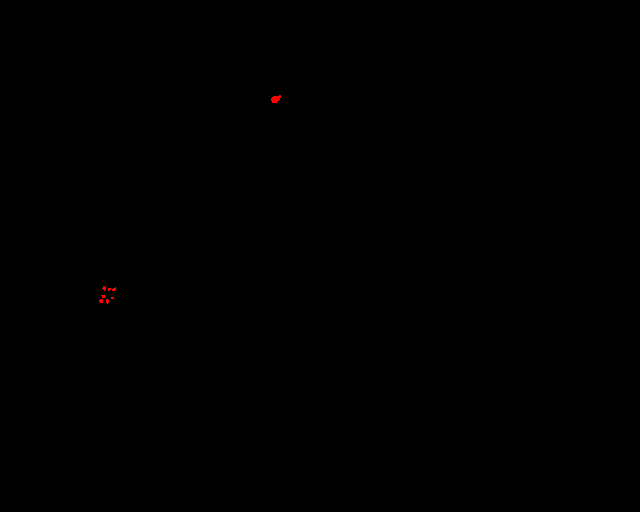Target: (271, 95, 281, 103), (102, 286, 106, 291), (112, 287, 116, 291), (99, 299, 103, 303), (101, 295, 106, 298), (106, 299, 109, 304), (108, 288, 111, 291), (111, 297, 114, 299)
